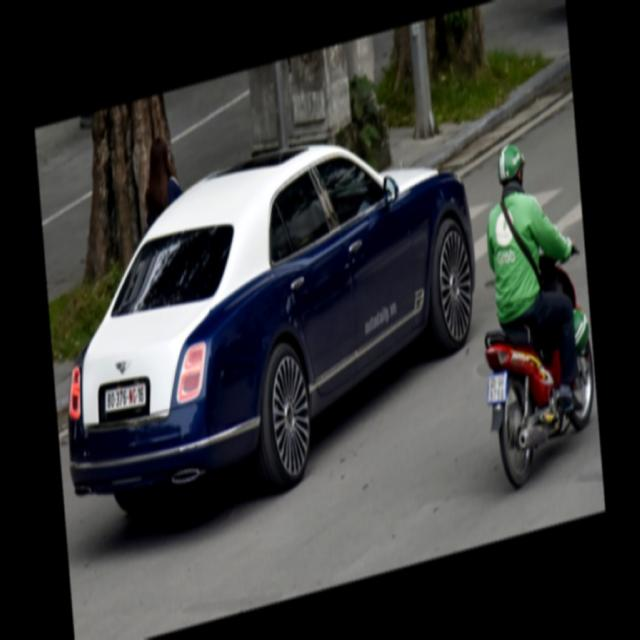bien_ngoai_giao: (101, 381, 150, 415)
